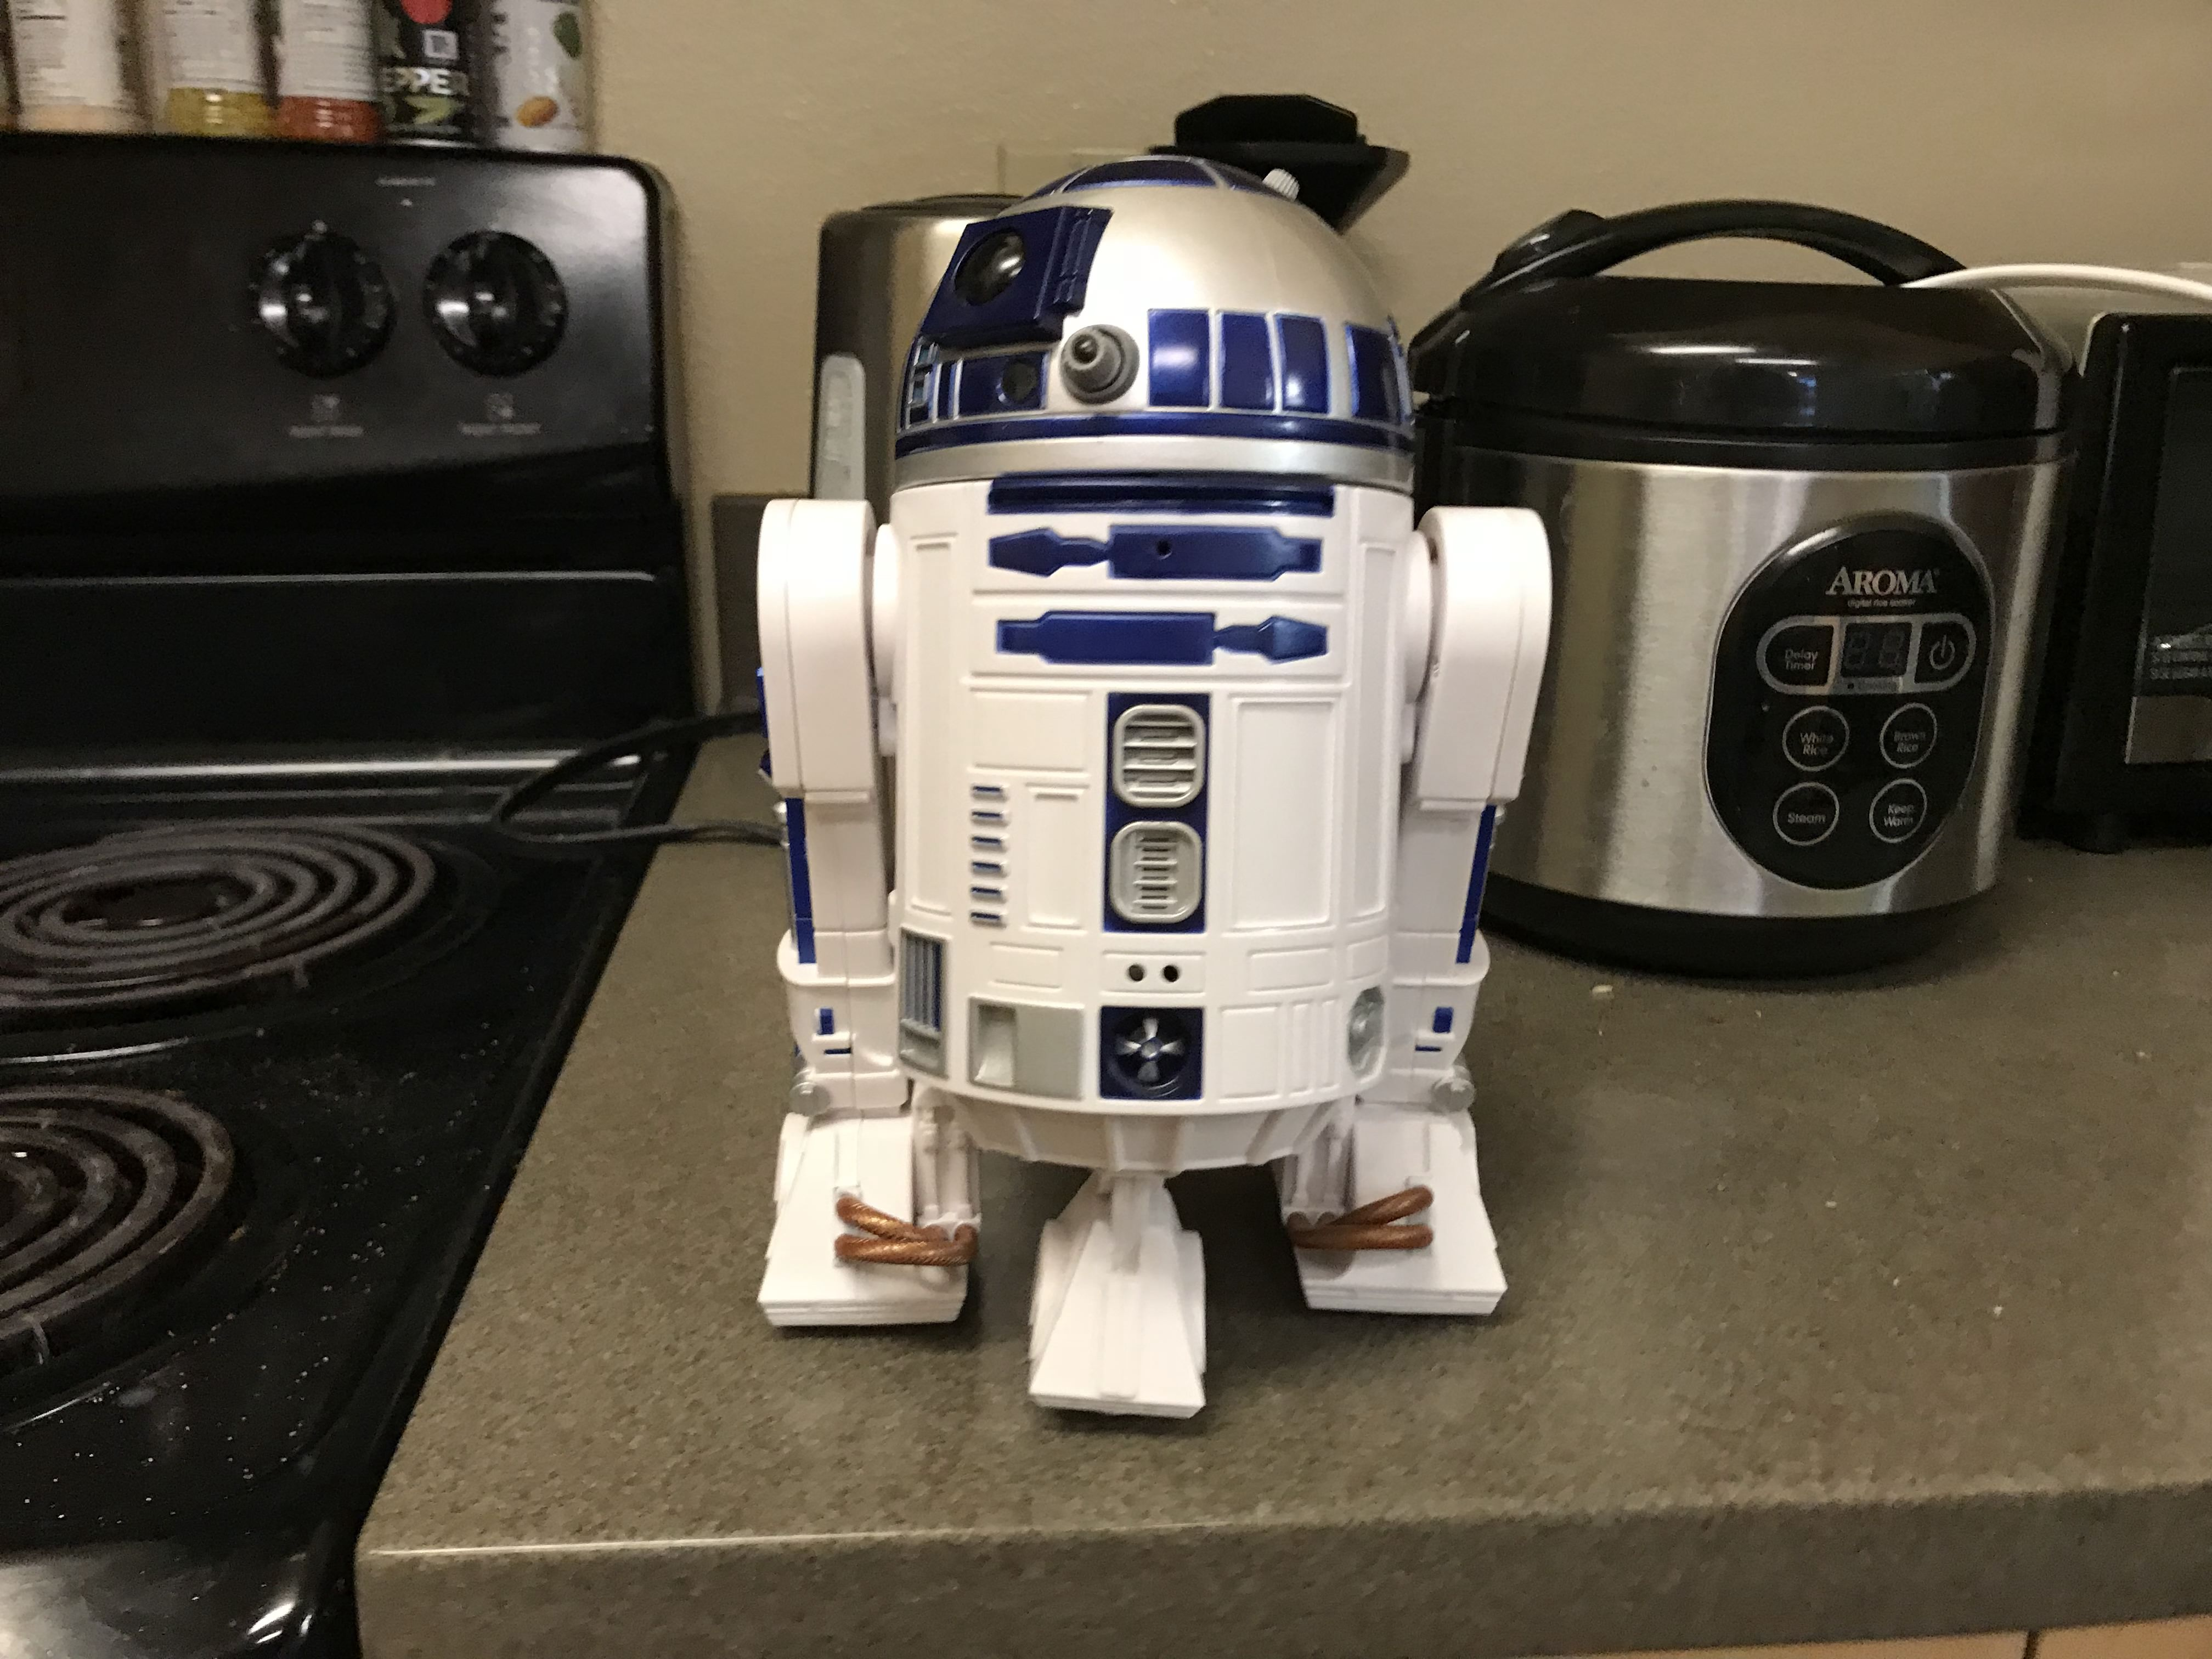r2d2: (759, 148, 1552, 1422)
